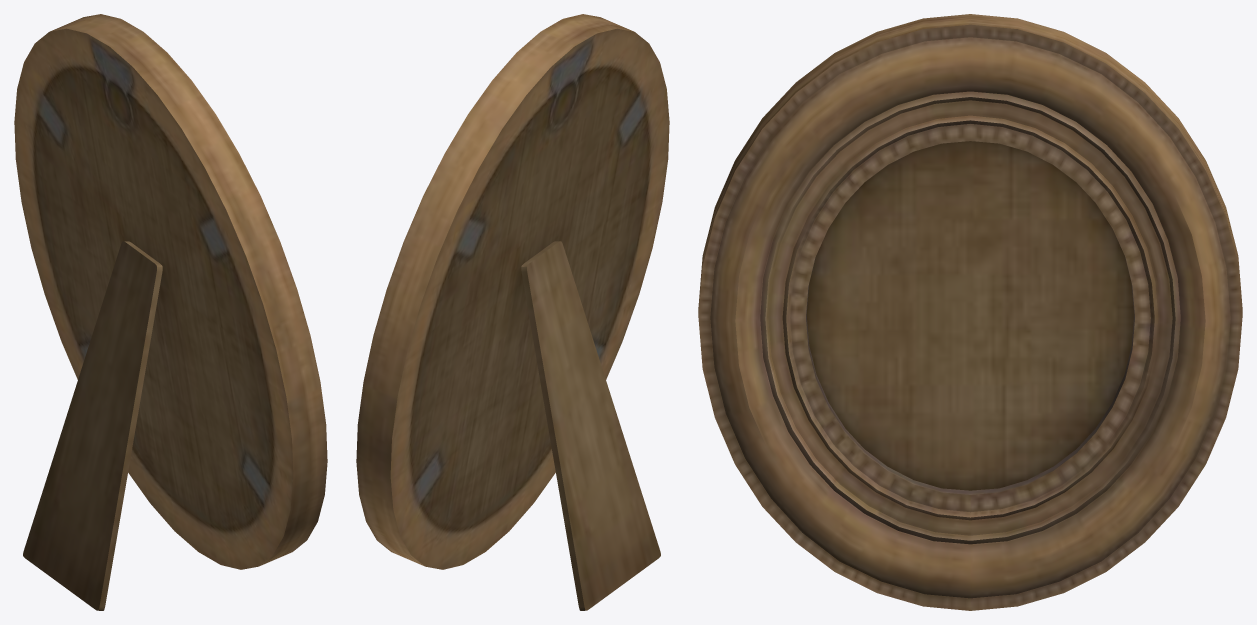
Rendered from photo-frame-b.glb.
3 renders of one model, left to right at view 1: azimuth 30°, elevation 25°; view 2: azimuth 150°, elevation 25°; view 3: azimuth 270°, elevation 25°, orthographic. The views are drawn at different scales.
Visible parts, largest first — view 1: photo-frame-b; view 2: photo-frame-b; view 3: photo-frame-b.
Boxes of the visible parts, bbox=[...] form: photo-frame-b: bbox=[14, 14, 327, 610]; photo-frame-b: bbox=[356, 14, 669, 610]; photo-frame-b: bbox=[698, 14, 1242, 610].
Bounding box in the file's own units: 0.0483 × 0.1395 × 0.1254.
1 material, 1 textured.
